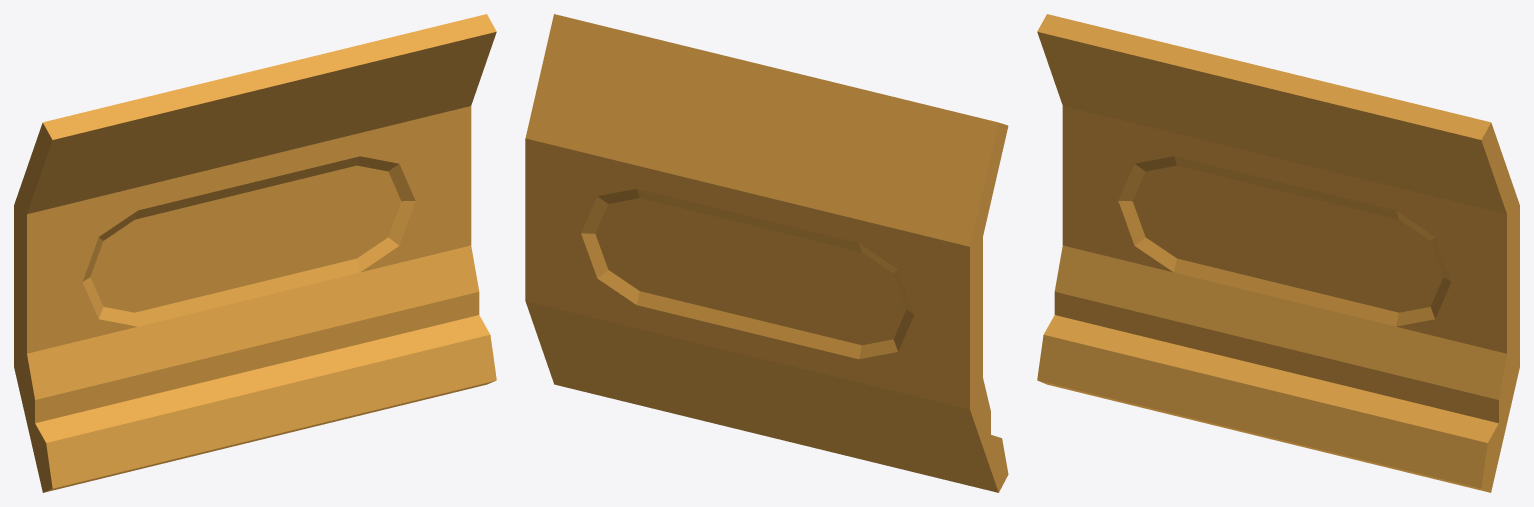
The model's file is scifi-scifi-window-corridor-stripe.glb.
The picture shows the model from 3 angles, left to right: view 1: azimuth 30°, elevation 25°; view 2: azimuth 150°, elevation 25°; view 3: azimuth 330°, elevation 25°; orthographic projection.
Parts seen in each view (by area): view 1: scifi-window-corridor-stripe; view 2: scifi-window-corridor-stripe; view 3: scifi-window-corridor-stripe.
Part boxes in pixels (x1=…): scifi-window-corridor-stripe: x1=14, y1=14, x2=496, y2=492; scifi-window-corridor-stripe: x1=525, y1=14, x2=1008, y2=492; scifi-window-corridor-stripe: x1=1037, y1=14, x2=1519, y2=492.
Bounding box in the file's own units: 4 × 3.19 × 0.6.
